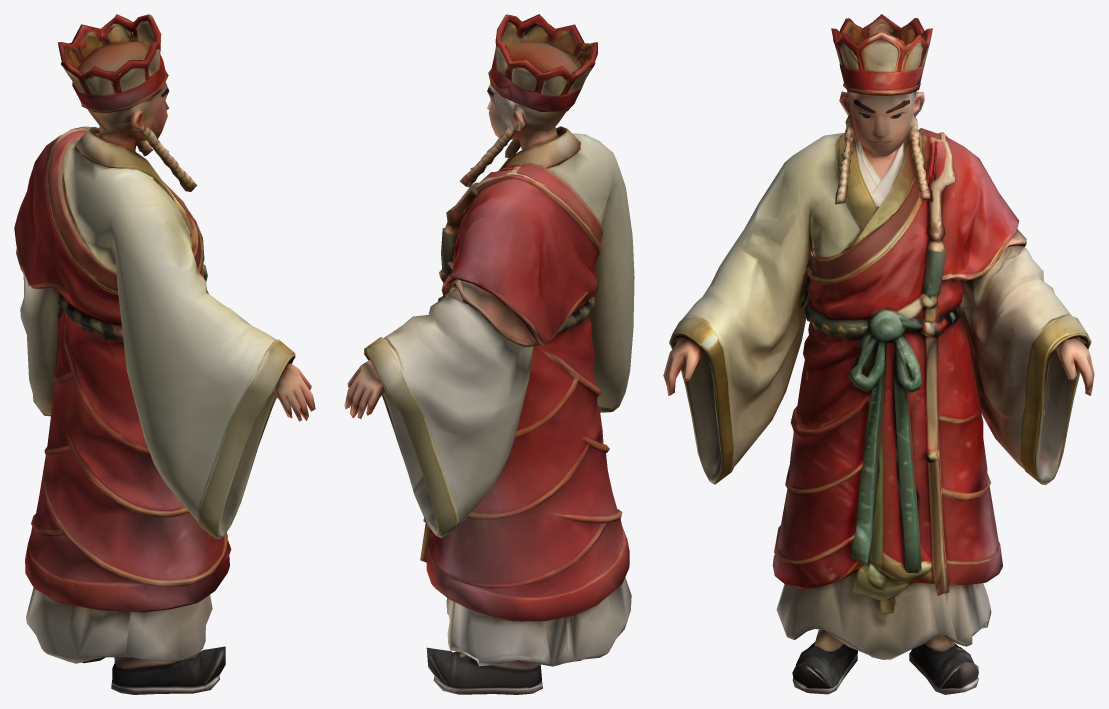
Rendered from monk-studio-v31-retopo.glb.
3 renders of one model, left to right at view 1: azimuth 30°, elevation 25°; view 2: azimuth 150°, elevation 25°; view 3: azimuth 270°, elevation 25°, orthographic.
Parts seen in each view (by area): view 1: tripo_node_d51fe726-1114-44f6-901f-beb215457ca6; view 2: tripo_node_d51fe726-1114-44f6-901f-beb215457ca6; view 3: tripo_node_d51fe726-1114-44f6-901f-beb215457ca6.
Boxes of the visible parts, x1,y1,x2,y2 form: tripo_node_d51fe726-1114-44f6-901f-beb215457ca6: [14, 14, 315, 694]; tripo_node_d51fe726-1114-44f6-901f-beb215457ca6: [344, 14, 634, 694]; tripo_node_d51fe726-1114-44f6-901f-beb215457ca6: [663, 14, 1094, 694].
Bounding box in the file's own units: 0.2869 × 0.9783 × 0.5901.
Materials: 1 (1 with a texture image).
